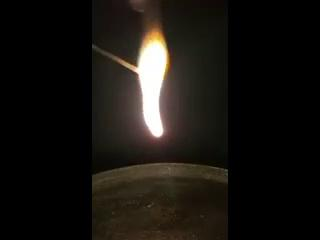Fire: (136, 29, 168, 137)
